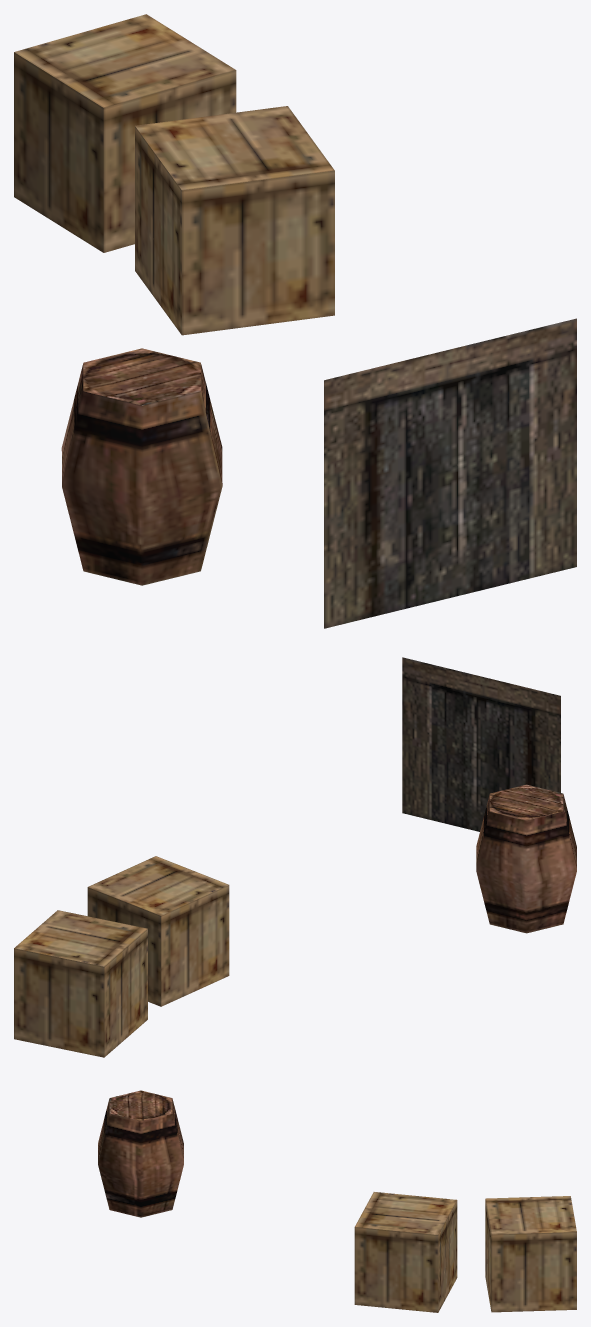
Rendered from celt_dock_props_1.dae.
3 renders of one model, top to bottom at view 1: azimuth 30°, elevation 25°; view 2: azimuth 150°, elevation 25°; view 3: azimuth 270°, elevation 25°, orthographic. The views are drawn at different scales.
Visible parts, largest first — view 1: crate02-Pivot; view 2: crate02-Pivot; view 3: crate02-Pivot.
Part boxes in pixels (bbox=[...]): crate02-Pivot: bbox=[14, 14, 576, 628]; crate02-Pivot: bbox=[14, 657, 576, 1057]; crate02-Pivot: bbox=[98, 1090, 576, 1312].
Bounding box in the file's own units: 5.45 × 9.84 × 2.57.
